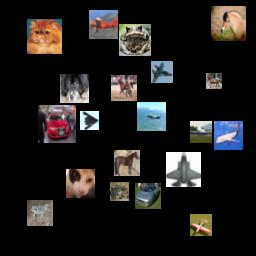airplane: (166, 152, 201, 187), (137, 102, 166, 131), (214, 121, 243, 150), (89, 10, 118, 39), (190, 214, 212, 236), (190, 121, 212, 143), (151, 61, 173, 83), (80, 111, 99, 130)
automobile: (38, 105, 76, 143), (135, 183, 161, 209)
cat: (27, 19, 62, 54), (66, 169, 95, 198)
dog: (60, 74, 89, 103)
frog: (119, 24, 151, 56), (27, 200, 53, 226), (110, 182, 129, 201)
